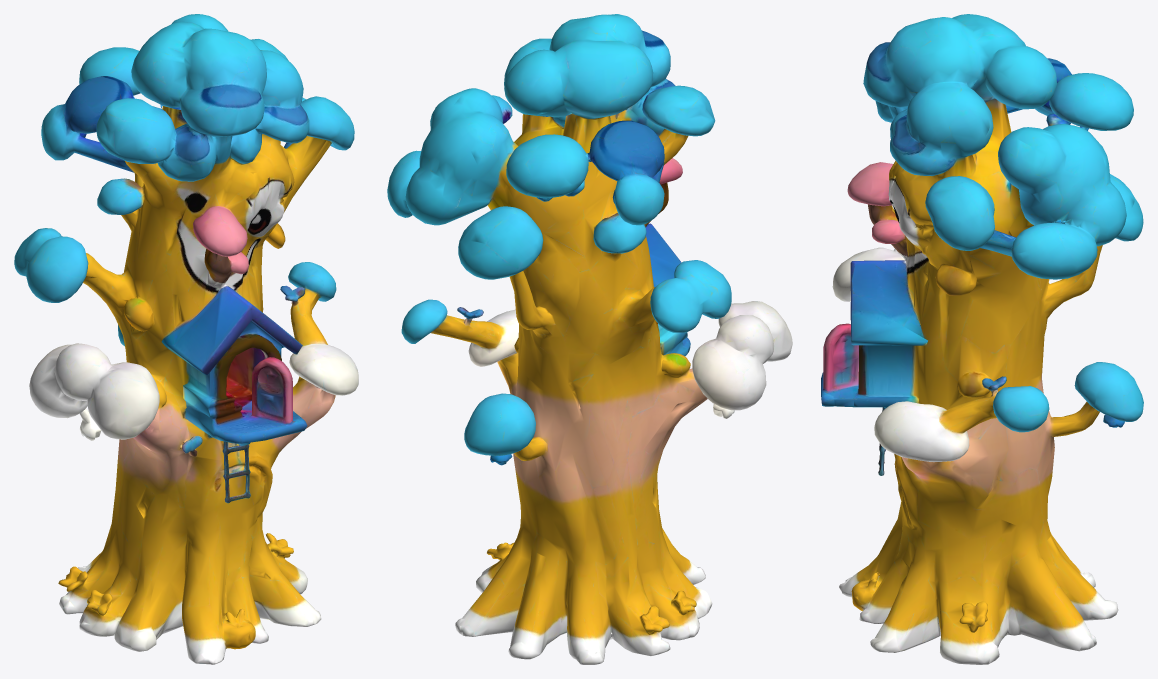
File: clay-story-grove.glb
The picture shows the model from 3 angles, left to right: view 1: azimuth 30°, elevation 25°; view 2: azimuth 150°, elevation 25°; view 3: azimuth 270°, elevation 25°; orthographic projection. The views are drawn at different scales.
Size of the model in its own units: 1.12 by 1.91 by 0.9374.
Materials: 1 (1 with a texture image).
